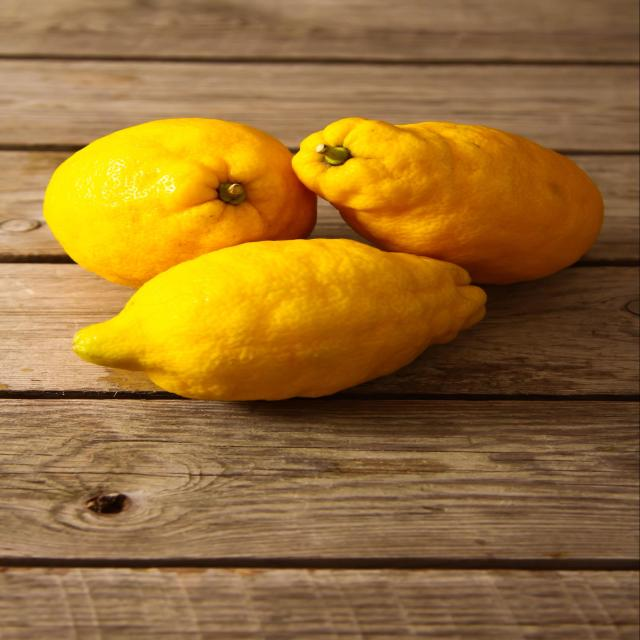lemon: (66, 233, 494, 402), (286, 114, 614, 286)
